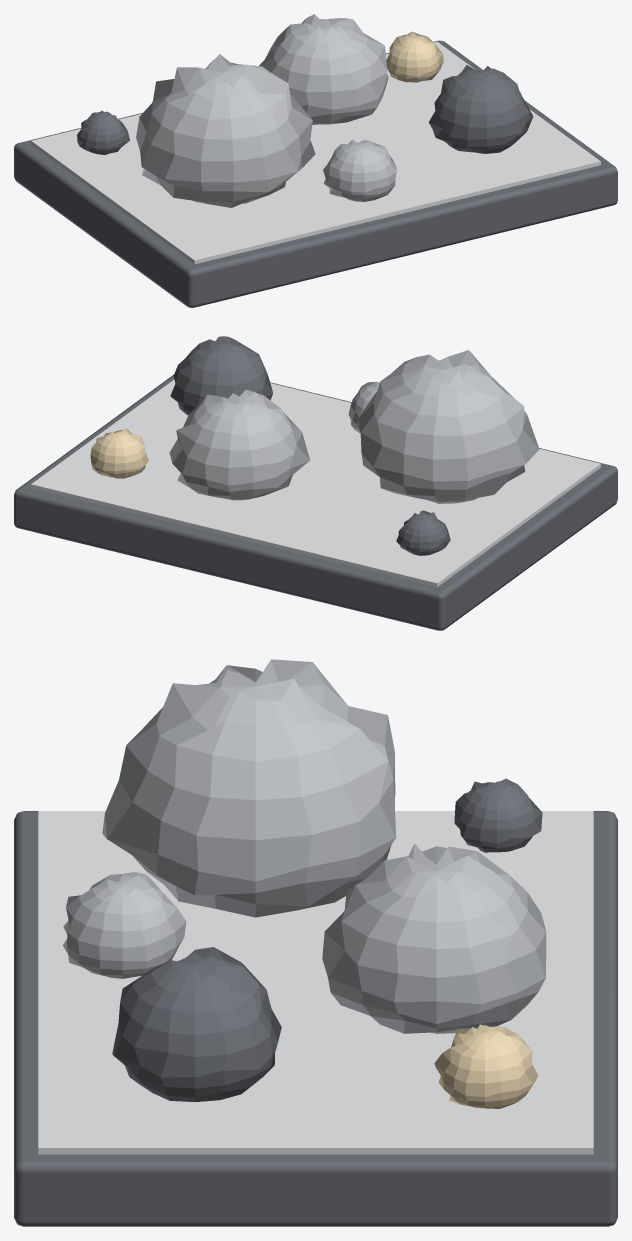
Rendered from solar-system-and-astronauts-asteroid-set-35f1e859__39239.glb.
The picture shows the model from 3 angles, top to bottom: view 1: azimuth 30°, elevation 25°; view 2: azimuth 150°, elevation 25°; view 3: azimuth 270°, elevation 25°; orthographic projection. The views are drawn at different scales.
Parts seen in each view (by area): view 1: asteroid-set; view 2: asteroid-set; view 3: asteroid-set.
Boxes of the visible parts, x1,y1,x2,y2 form: asteroid-set: (14, 14, 617, 307); asteroid-set: (14, 336, 617, 630); asteroid-set: (14, 659, 617, 1226).
Bounding box in the file's own units: 0.7 × 0.2631 × 0.5.
